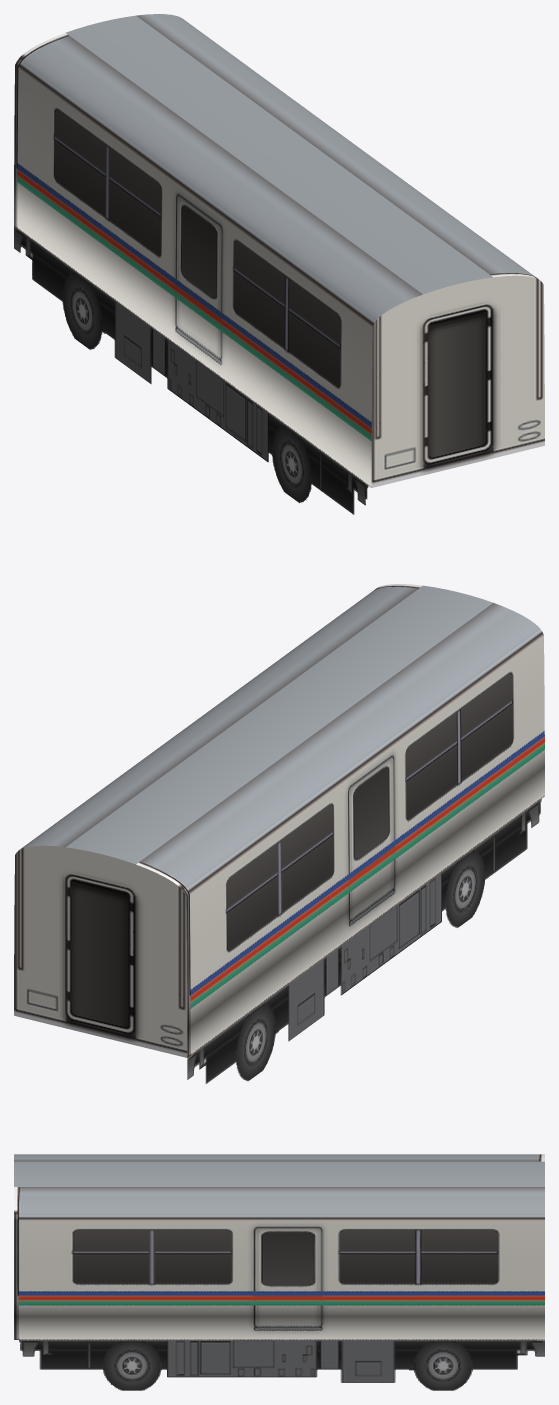
The model's file is car2.glb.
3 renders of one model, top to bottom at view 1: azimuth 30°, elevation 25°; view 2: azimuth 150°, elevation 25°; view 3: azimuth 270°, elevation 25°, orthographic. The views are drawn at different scales.
Parts seen in each view (by area): view 1: seibu8500-car2; view 2: seibu8500-car2; view 3: seibu8500-car2.
Part boxes in pixels (x1,y1,x2,y2): seibu8500-car2: [14, 14, 544, 514]; seibu8500-car2: [14, 584, 544, 1083]; seibu8500-car2: [14, 1154, 544, 1390].
Size of the model in its own units: 2.38 by 3.29 by 8.5.
Materials: 5 (4 with a texture image).
